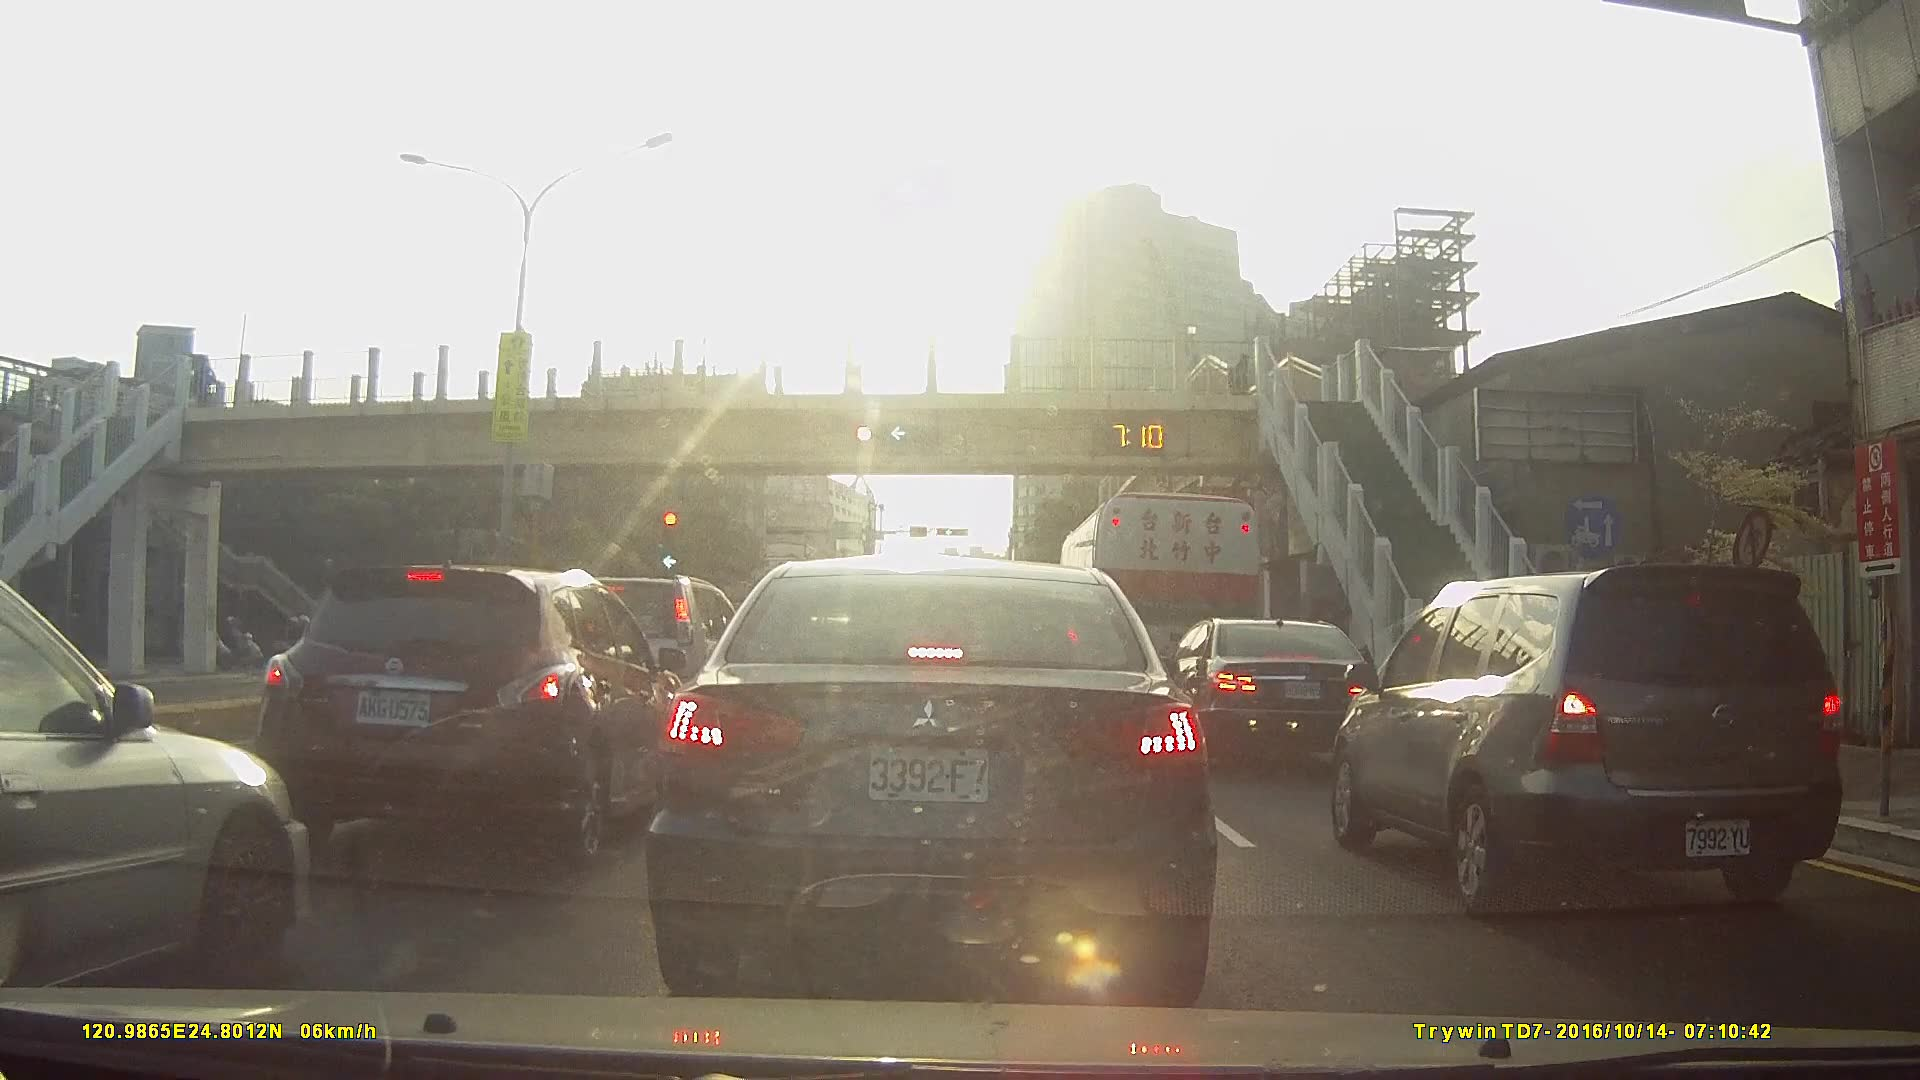pedestrian: (1225, 351, 1252, 408), (203, 361, 226, 411)
rider: (209, 614, 267, 669)
vehicle: (643, 552, 1218, 1004), (1324, 561, 1840, 921), (250, 560, 694, 868), (0, 572, 314, 1004), (1057, 488, 1261, 733), (1155, 615, 1384, 766)
